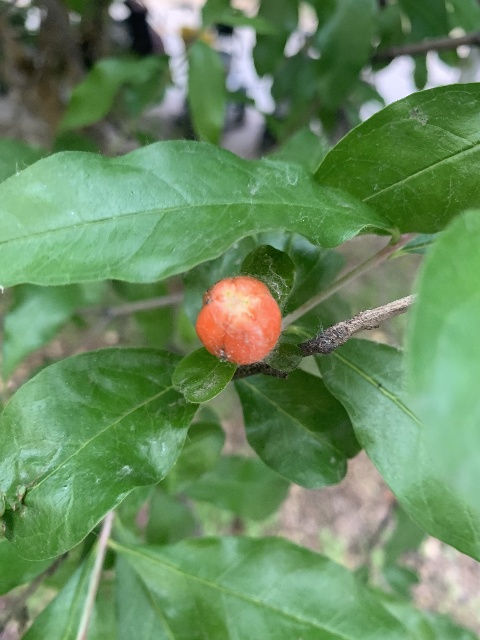bud: (195, 275, 281, 366)
